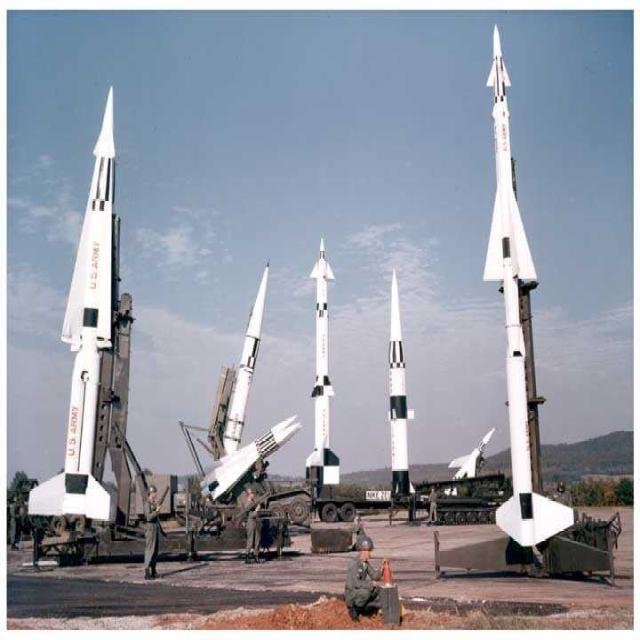missile: (480, 24, 570, 552), (28, 78, 123, 538), (385, 259, 419, 500)
